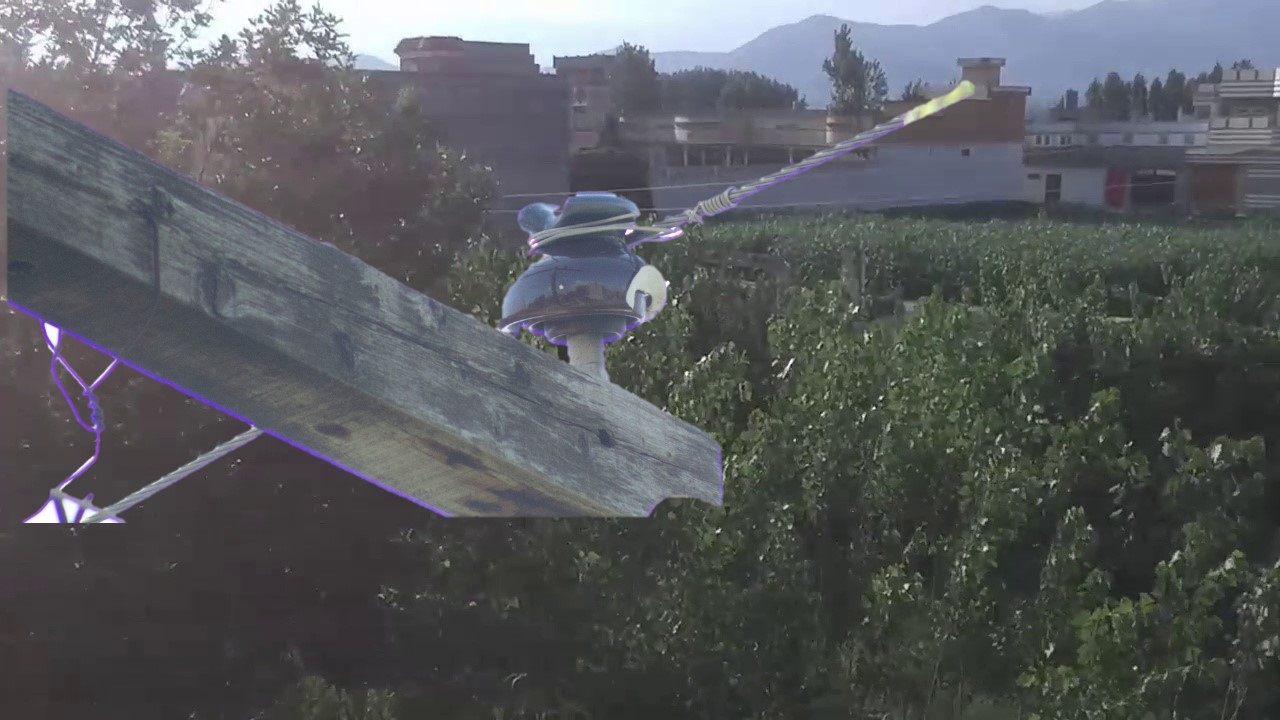defect_pin: (487, 183, 685, 341)
